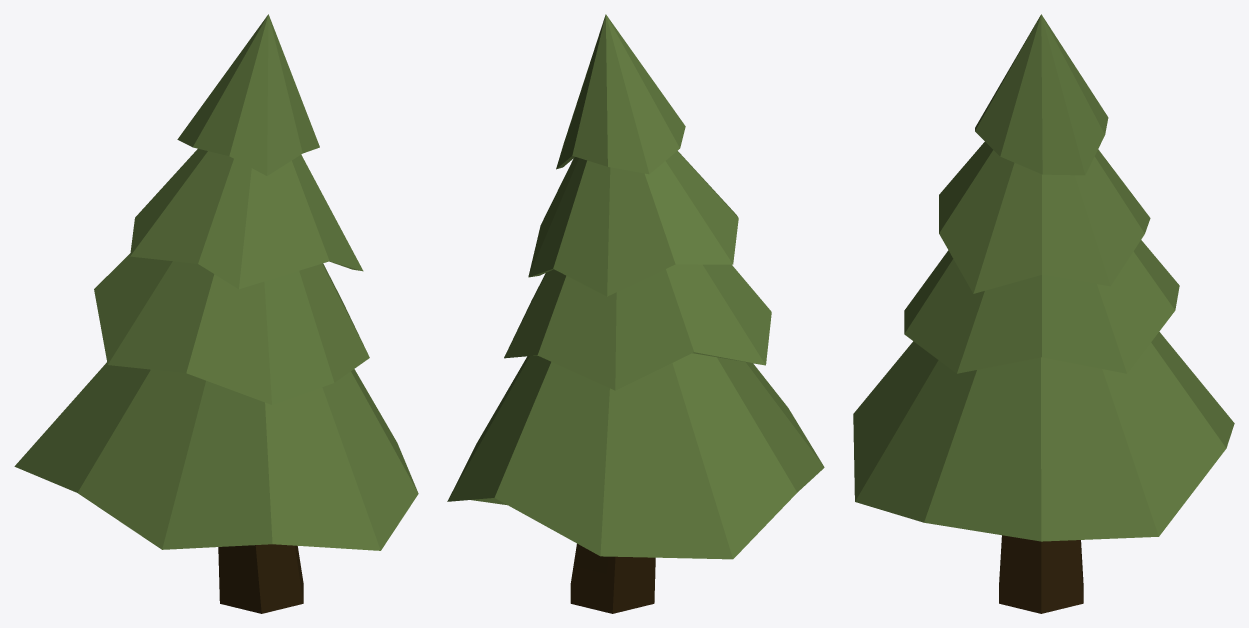
Rendered from tree.fbx.
3 renders of one model, left to right at view 1: azimuth 30°, elevation 25°; view 2: azimuth 150°, elevation 25°; view 3: azimuth 270°, elevation 25°, orthographic.
Visible parts, largest first — view 1: Bottom Leaves, Lower Mid Leaves, Upper Mid Leaves, Top Leaves, Bottom; view 2: Bottom Leaves, Lower Mid Leaves, Upper Mid Leaves, Top Leaves, Bottom; view 3: Bottom Leaves, Lower Mid Leaves, Upper Mid Leaves, Top Leaves, Bottom.
Part boxes in pixels (bbox=[...]): Bottom Leaves: bbox=[14, 362, 418, 550]; Lower Mid Leaves: bbox=[94, 253, 369, 404]; Upper Mid Leaves: bbox=[130, 148, 363, 289]; Top Leaves: bbox=[177, 14, 319, 175]; Bottom: bbox=[218, 544, 303, 613]; Bottom Leaves: bbox=[447, 353, 824, 559]; Lower Mid Leaves: bbox=[504, 264, 771, 390]; Upper Mid Leaves: bbox=[528, 151, 738, 296]; Top Leaves: bbox=[556, 14, 685, 174]; Bottom: bbox=[570, 543, 655, 613]; Bottom Leaves: bbox=[853, 331, 1234, 541]; Lower Mid Leaves: bbox=[904, 240, 1179, 373]; Upper Mid Leaves: bbox=[939, 142, 1150, 293]; Top Leaves: bbox=[975, 14, 1108, 175]; Bottom: bbox=[999, 535, 1083, 613].
Size of the model in its own units: 213 by 367 by 218.
